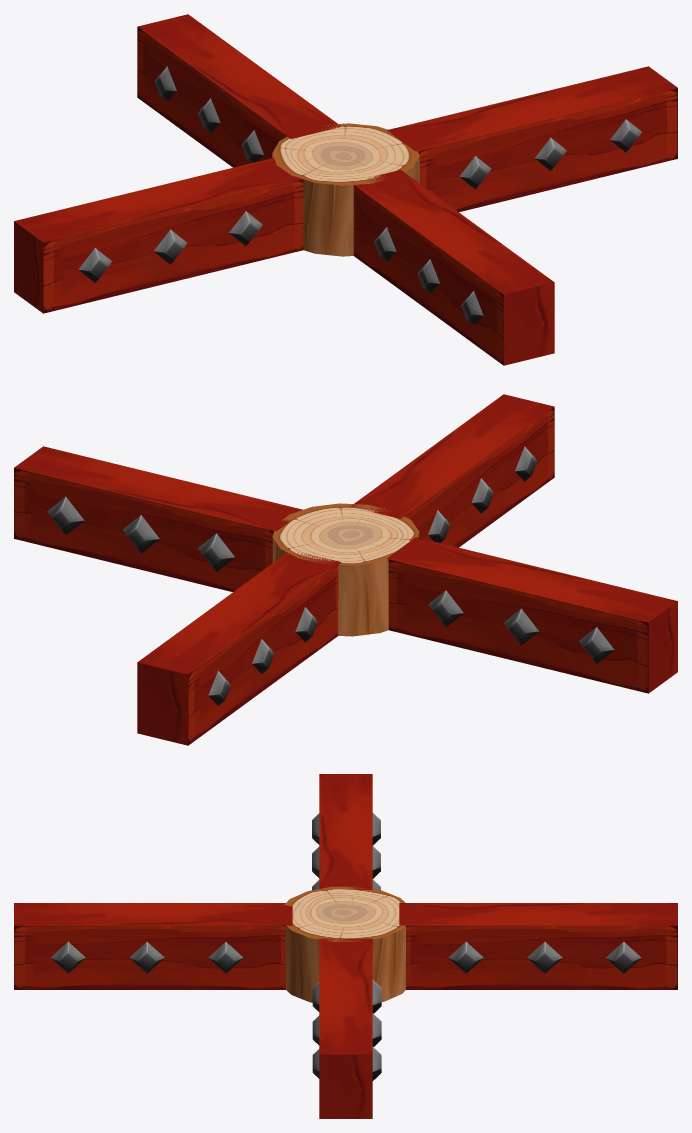
Rendered from four_blade_red_02.fbx.
3 renders of one model, top to bottom at view 1: azimuth 30°, elevation 25°; view 2: azimuth 150°, elevation 25°; view 3: azimuth 270°, elevation 25°, orthographic. The views are drawn at different scales.
Parts seen in each view (by area): view 1: Blade_22, Blade_20, Blade_19, Blade_21, wood_center_22; view 2: Blade_22, Blade_20, Blade_21, Blade_19, wood_center_22; view 3: Blade_21, Blade_19, Blade_20, wood_center_22, Blade_22.
Boxes of the visible parts, x1,y1,x2,y2 form: Blade_22: (14,158,304,313); Blade_20: (387,66,677,211); Blade_19: (353,170,554,365); Blade_21: (137,14,341,167); wood_center_22: (272,123,419,256); Blade_22: (387,537,677,693); Blade_20: (14,446,302,591); Blade_21: (137,552,341,745); Blade_19: (350,394,554,547); wood_center_22: (272,503,419,636); Blade_21: (399,903,677,989); Blade_19: (14,903,292,989); Blade_20: (312,938,381,1118); wood_center_22: (284,886,405,1002); Blade_22: (312,774,380,890).
Size of the model in its own units: 374 by 40 by 374.
